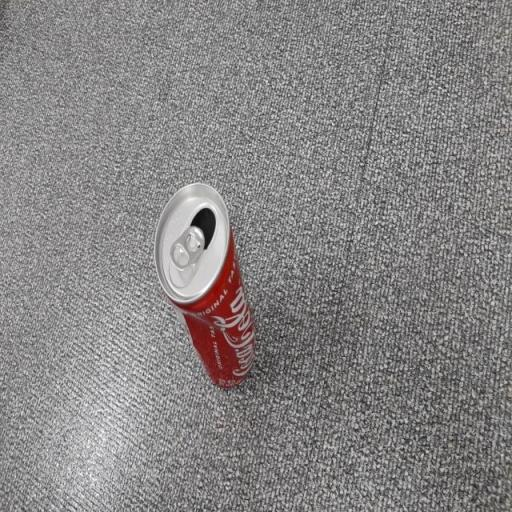metal: (152, 170, 262, 408)
